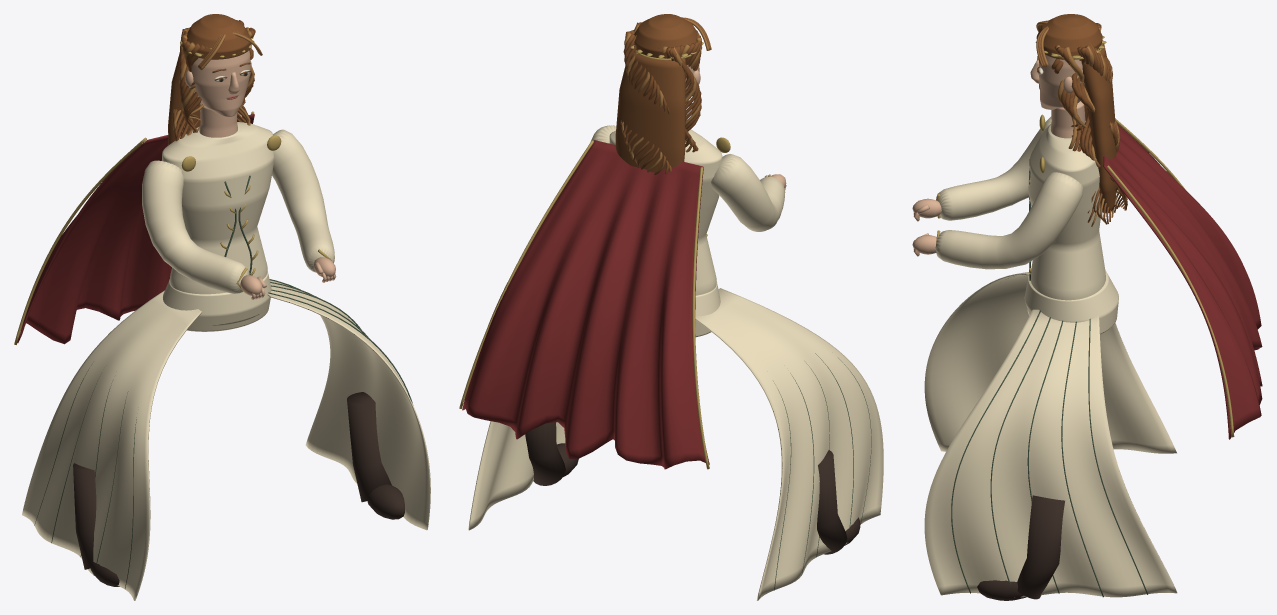
Rendered from princess-v2.glb.
3 views of the same model, side by side, from view 1: azimuth 30°, elevation 25°; view 2: azimuth 150°, elevation 25°; view 3: azimuth 270°, elevation 25° (orthographic).
Visible parts, largest first — view 1: MorrisPrincess_surface, cape_surface, body_surface, head_surface, armL_surface, armR_surface; view 2: cape_surface, MorrisPrincess_surface, head_surface, armL_surface, body_surface; view 3: MorrisPrincess_surface, cape_surface, head_surface, body_surface, armR_surface, armL_surface.
Boxes of the visible parts, left/top/right/bottom form: MorrisPrincess_surface: left=22, top=271, right=430, bottom=600; cape_surface: left=14, top=111, right=254, bottom=344; body_surface: left=162, top=102, right=281, bottom=325; head_surface: left=167, top=14, right=262, bottom=145; armL_surface: left=142, top=160, right=266, bottom=299; armR_surface: left=272, top=129, right=336, bottom=282; cape_surface: left=459, top=140, right=709, bottom=469; MorrisPrincess_surface: left=468, top=281, right=883, bottom=600; head_surface: left=615, top=14, right=711, bottom=174; armL_surface: left=711, top=154, right=786, bottom=231; body_surface: left=609, top=104, right=730, bottom=295; MorrisPrincess_surface: left=924, top=270, right=1177, bottom=600; cape_surface: left=1103, top=118, right=1262, bottom=439; head_surface: left=1030, top=14, right=1127, bottom=226; body_surface: left=1027, top=101, right=1105, bottom=315; armR_surface: left=912, top=172, right=1083, bottom=269; armL_surface: left=912, top=116, right=1051, bottom=221.
Size of the model in its own units: 0.99 by 1.56 by 0.964.
